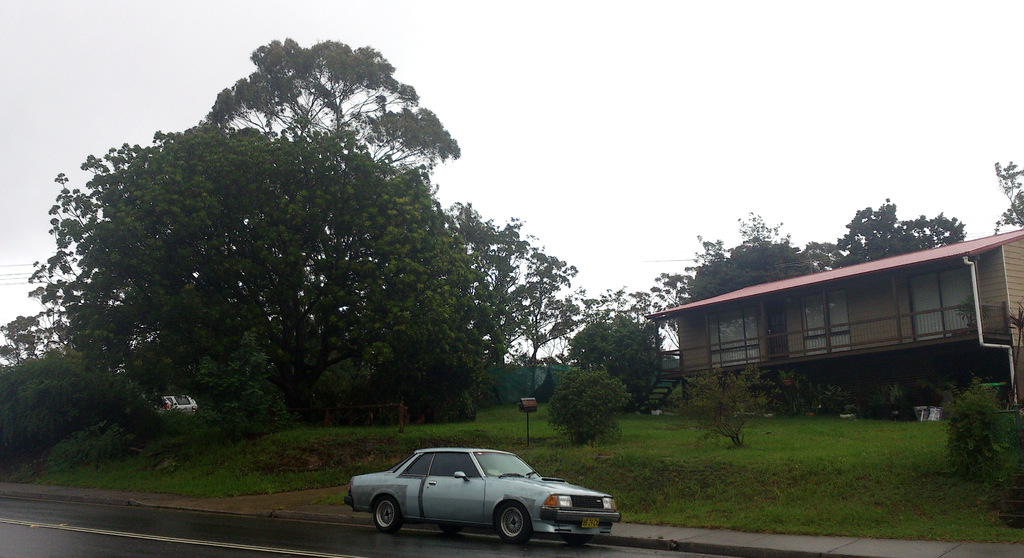Car: (348, 441, 616, 539), (165, 394, 199, 414)
